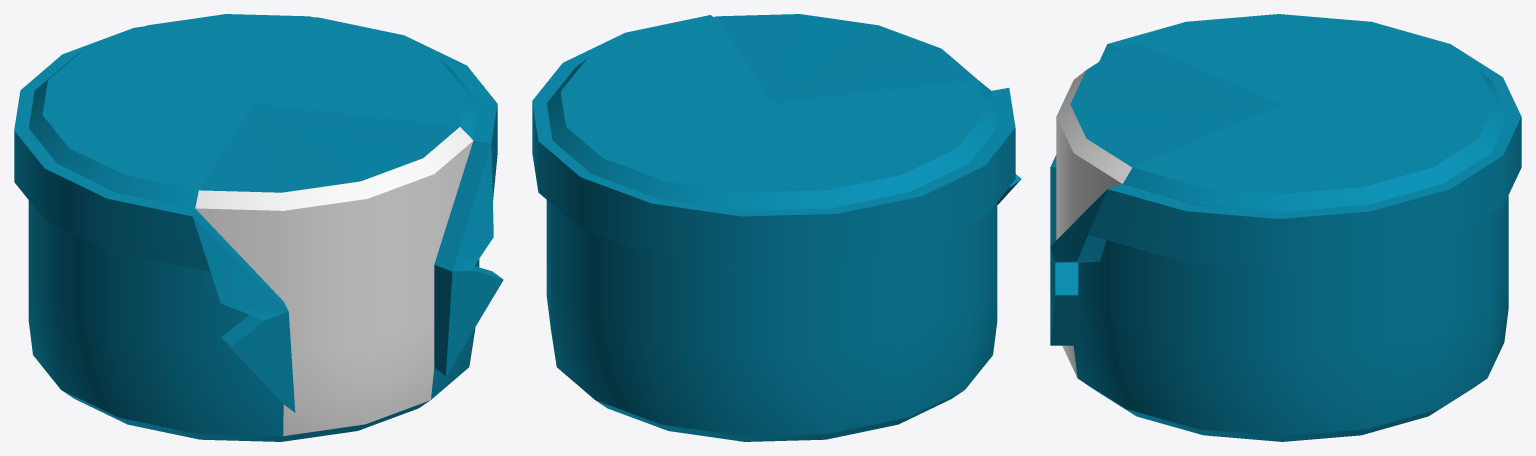
Rendered from Body_Dress_13.fbx.
The picture shows the model from 3 angles, left to right: view 1: azimuth 30°, elevation 25°; view 2: azimuth 150°, elevation 25°; view 3: azimuth 270°, elevation 25°; orthographic projection.
Parts seen in each view (by area): view 1: Body_Dress_13; view 2: Body_Dress_13; view 3: Body_Dress_13.
Boxes of the visible parts, x1,y1,x2,y2 form: Body_Dress_13: [14, 14, 503, 441]; Body_Dress_13: [532, 14, 1021, 441]; Body_Dress_13: [1050, 14, 1521, 441].
Bounding box in the file's own units: 107 × 61.13 × 104.
